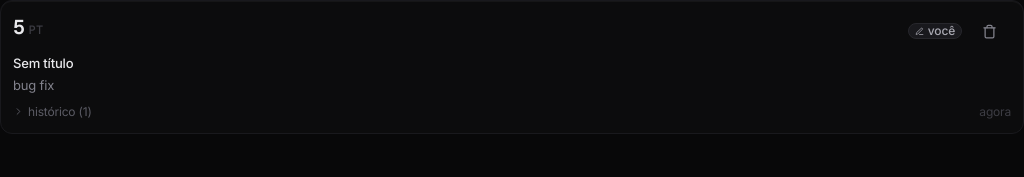
Test: PointsCard › names the points button and reports the history toggle state
Expected: the button with aria-label "Corrigir pontos (5 pt)" is shown, [13,13,44,41]
Click the button "histórico (1)". click: (52, 112)
box: [13,103,92,121]
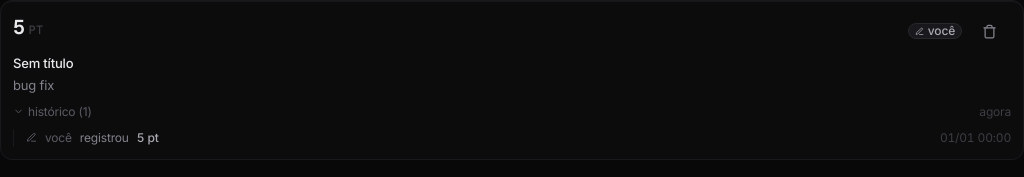
Result: the button "histórico (1)" is expanded at [13,103,92,121]
